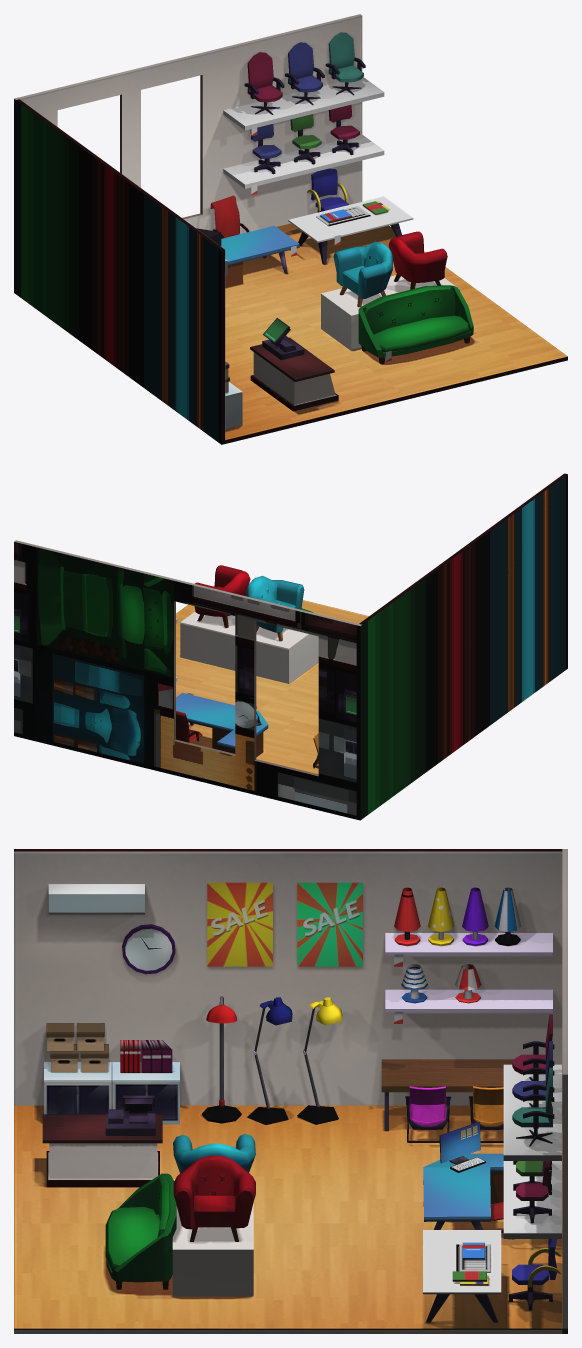
File: Tx_Interior_Shop_Furniture_20170628.fbx
3 views of the same model, one above another, from view 1: azimuth 30°, elevation 25°; view 2: azimuth 150°, elevation 25°; view 3: azimuth 270°, elevation 25° (orthographic). The views are drawn at different scales.
Parts seen in each view (by area): view 1: aircond, chair_factory; view 2: aircond, chair_factory; view 3: aircond, lapm_stand, chair_factory.
Boxes of the visible parts, <box> form: aircond: <box>14,14,567,444</box>; chair_factory: <box>196,32,413,287</box>; aircond: <box>14,473,567,820</box>; chair_factory: <box>176,618,268,757</box>; aircond: <box>14,849,567,1333</box>; lapm_stand: <box>202,882,552,1142</box>; chair_factory: <box>423,1014,561,1322</box>.
Bounding box in the file's own units: 41.6 × 22.3 × 43.19.
3 materials, 3 textured.
